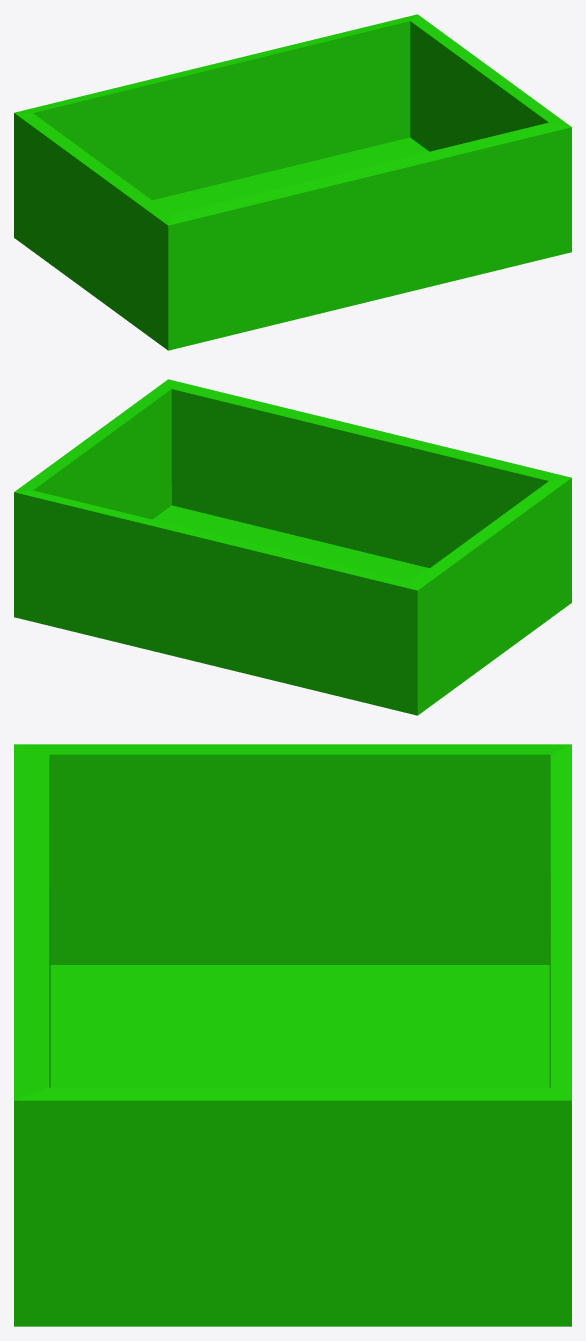
Rendered from SM_Shelf_06_Collider.fbx.
3 renders of one model, top to bottom at view 1: azimuth 30°, elevation 25°; view 2: azimuth 150°, elevation 25°; view 3: azimuth 270°, elevation 25°, orthographic. The views are drawn at different scales.
Parts seen in each view (by area): view 1: SM_Shelf_06_Collider; view 2: SM_Shelf_06_Collider; view 3: SM_Shelf_06_Collider.
Boxes of the visible parts, left/top/right/bottom form: SM_Shelf_06_Collider: left=14, top=14, right=571, bottom=350; SM_Shelf_06_Collider: left=14, top=379, right=571, bottom=715; SM_Shelf_06_Collider: left=14, top=744, right=571, bottom=1326.
Size of the model in its own units: 141 by 41.96 by 93.37.
